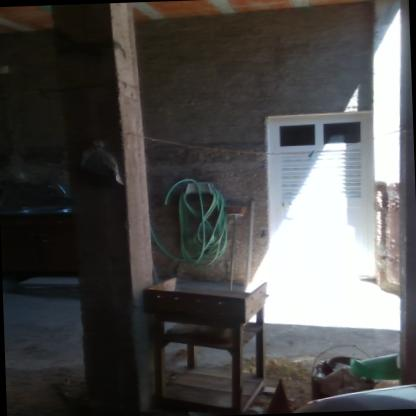closed: (252, 98, 388, 294)
